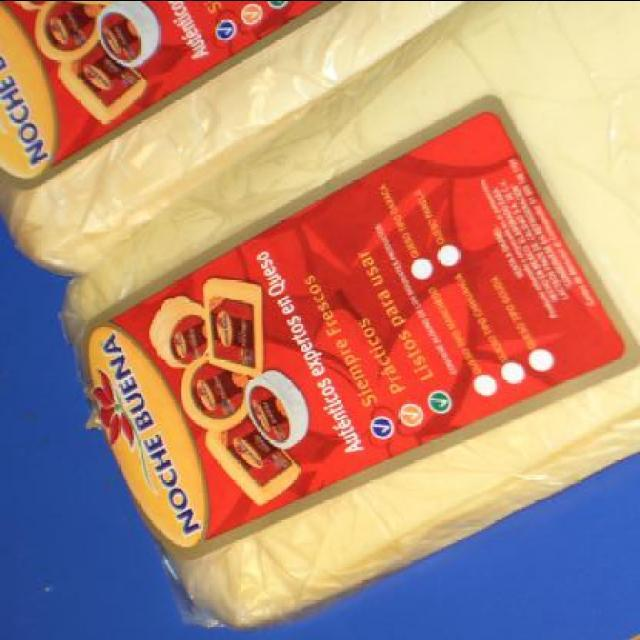Cheese: (61, 1, 639, 630), (0, 0, 461, 279)
